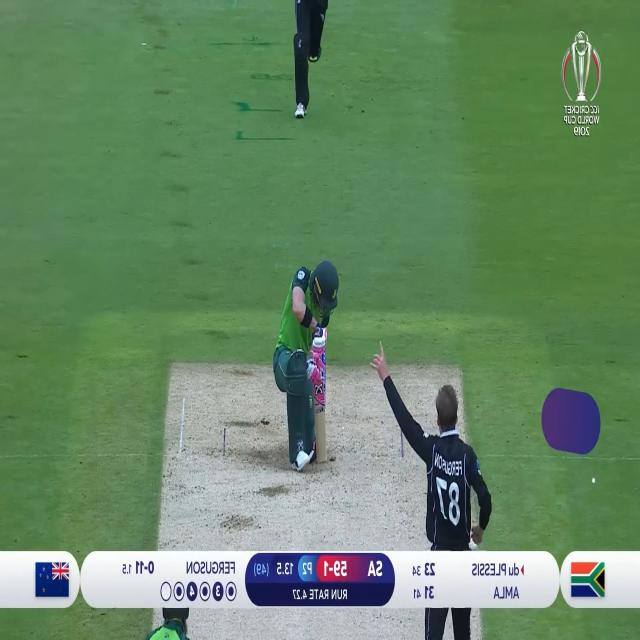ball: (470, 538, 477, 551)
